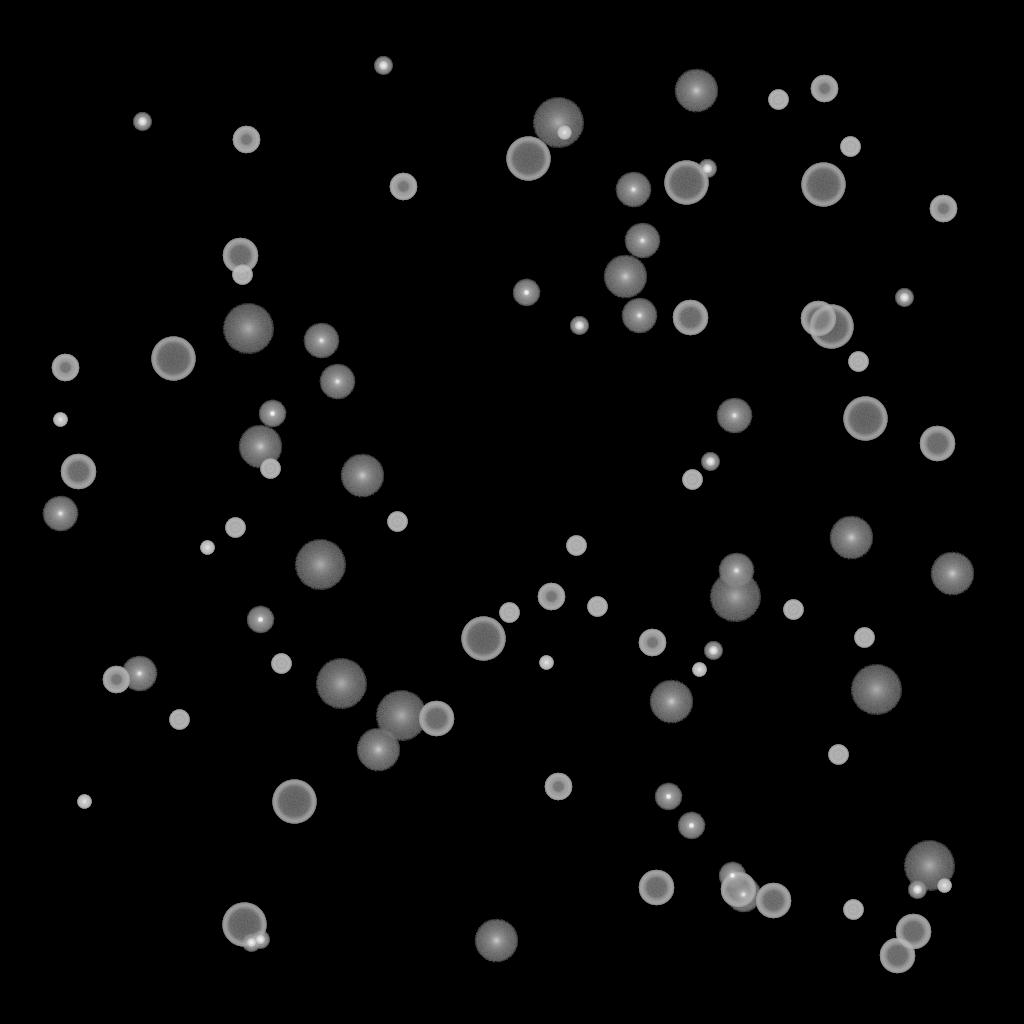depth:-10: (718, 862, 746, 890), (246, 606, 274, 634), (654, 783, 682, 811), (258, 400, 286, 428), (677, 812, 705, 840), (512, 279, 540, 307)
depth:-20: (701, 453, 719, 471), (242, 934, 260, 952), (133, 113, 151, 131), (895, 289, 913, 307), (908, 881, 926, 899), (251, 931, 269, 949), (698, 160, 716, 178), (374, 57, 392, 75), (704, 642, 722, 660), (570, 317, 588, 335)
depth:-30: (692, 663, 706, 677), (53, 413, 67, 427), (77, 795, 91, 809), (539, 656, 553, 670), (937, 879, 951, 893), (557, 126, 571, 140), (200, 541, 214, 555)
depth:-40: (499, 603, 519, 623), (169, 710, 189, 730), (840, 137, 860, 157), (854, 628, 874, 648), (232, 265, 252, 285), (260, 459, 280, 479), (566, 536, 586, 556), (848, 352, 868, 372), (768, 90, 788, 110), (843, 900, 863, 920), (828, 745, 848, 765), (387, 512, 407, 532), (225, 518, 245, 538), (271, 654, 291, 674), (783, 600, 803, 620), (682, 470, 702, 490), (587, 597, 607, 617)
depth:-50: (389, 173, 417, 201), (638, 629, 666, 657), (102, 666, 130, 694), (51, 354, 79, 382), (810, 75, 838, 103), (929, 195, 957, 223), (232, 126, 260, 154), (537, 583, 565, 611), (544, 773, 572, 801)
depth:-60: (720, 872, 756, 908), (638, 870, 674, 906), (60, 454, 96, 490), (800, 301, 836, 337), (755, 883, 791, 919), (895, 914, 931, 950), (879, 938, 915, 974), (418, 701, 454, 737), (672, 300, 708, 336), (919, 426, 955, 462), (222, 238, 258, 274)
depth:-70: (151, 337, 195, 381), (272, 780, 316, 824), (801, 163, 845, 207), (809, 305, 853, 349), (506, 137, 550, 181), (664, 161, 708, 205), (222, 903, 266, 947), (843, 397, 887, 441), (461, 617, 505, 661)
depth:0: (303, 323, 339, 359), (319, 364, 355, 400), (725, 877, 761, 913), (615, 172, 651, 208), (716, 398, 752, 434), (718, 553, 754, 589), (42, 496, 78, 532), (121, 656, 157, 692), (621, 298, 657, 334), (624, 223, 660, 259)
depth:10: (930, 552, 974, 596), (674, 69, 718, 113), (356, 728, 400, 772), (238, 425, 282, 469), (603, 255, 647, 299), (474, 919, 518, 963), (829, 516, 873, 560), (340, 454, 384, 498), (649, 680, 693, 724)
depth:20: (294, 540, 346, 590), (222, 304, 274, 354), (315, 659, 367, 709), (903, 841, 955, 891), (532, 98, 584, 148), (709, 572, 761, 622), (850, 665, 902, 715), (375, 691, 427, 741)
